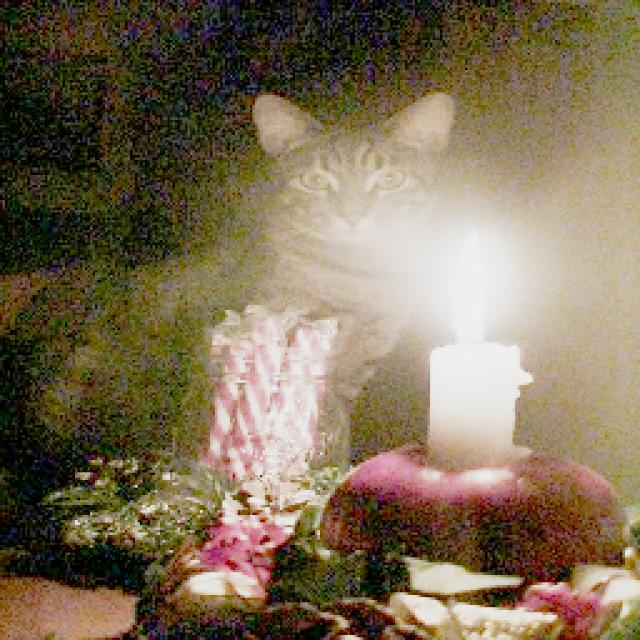cat: (4, 90, 454, 495)
